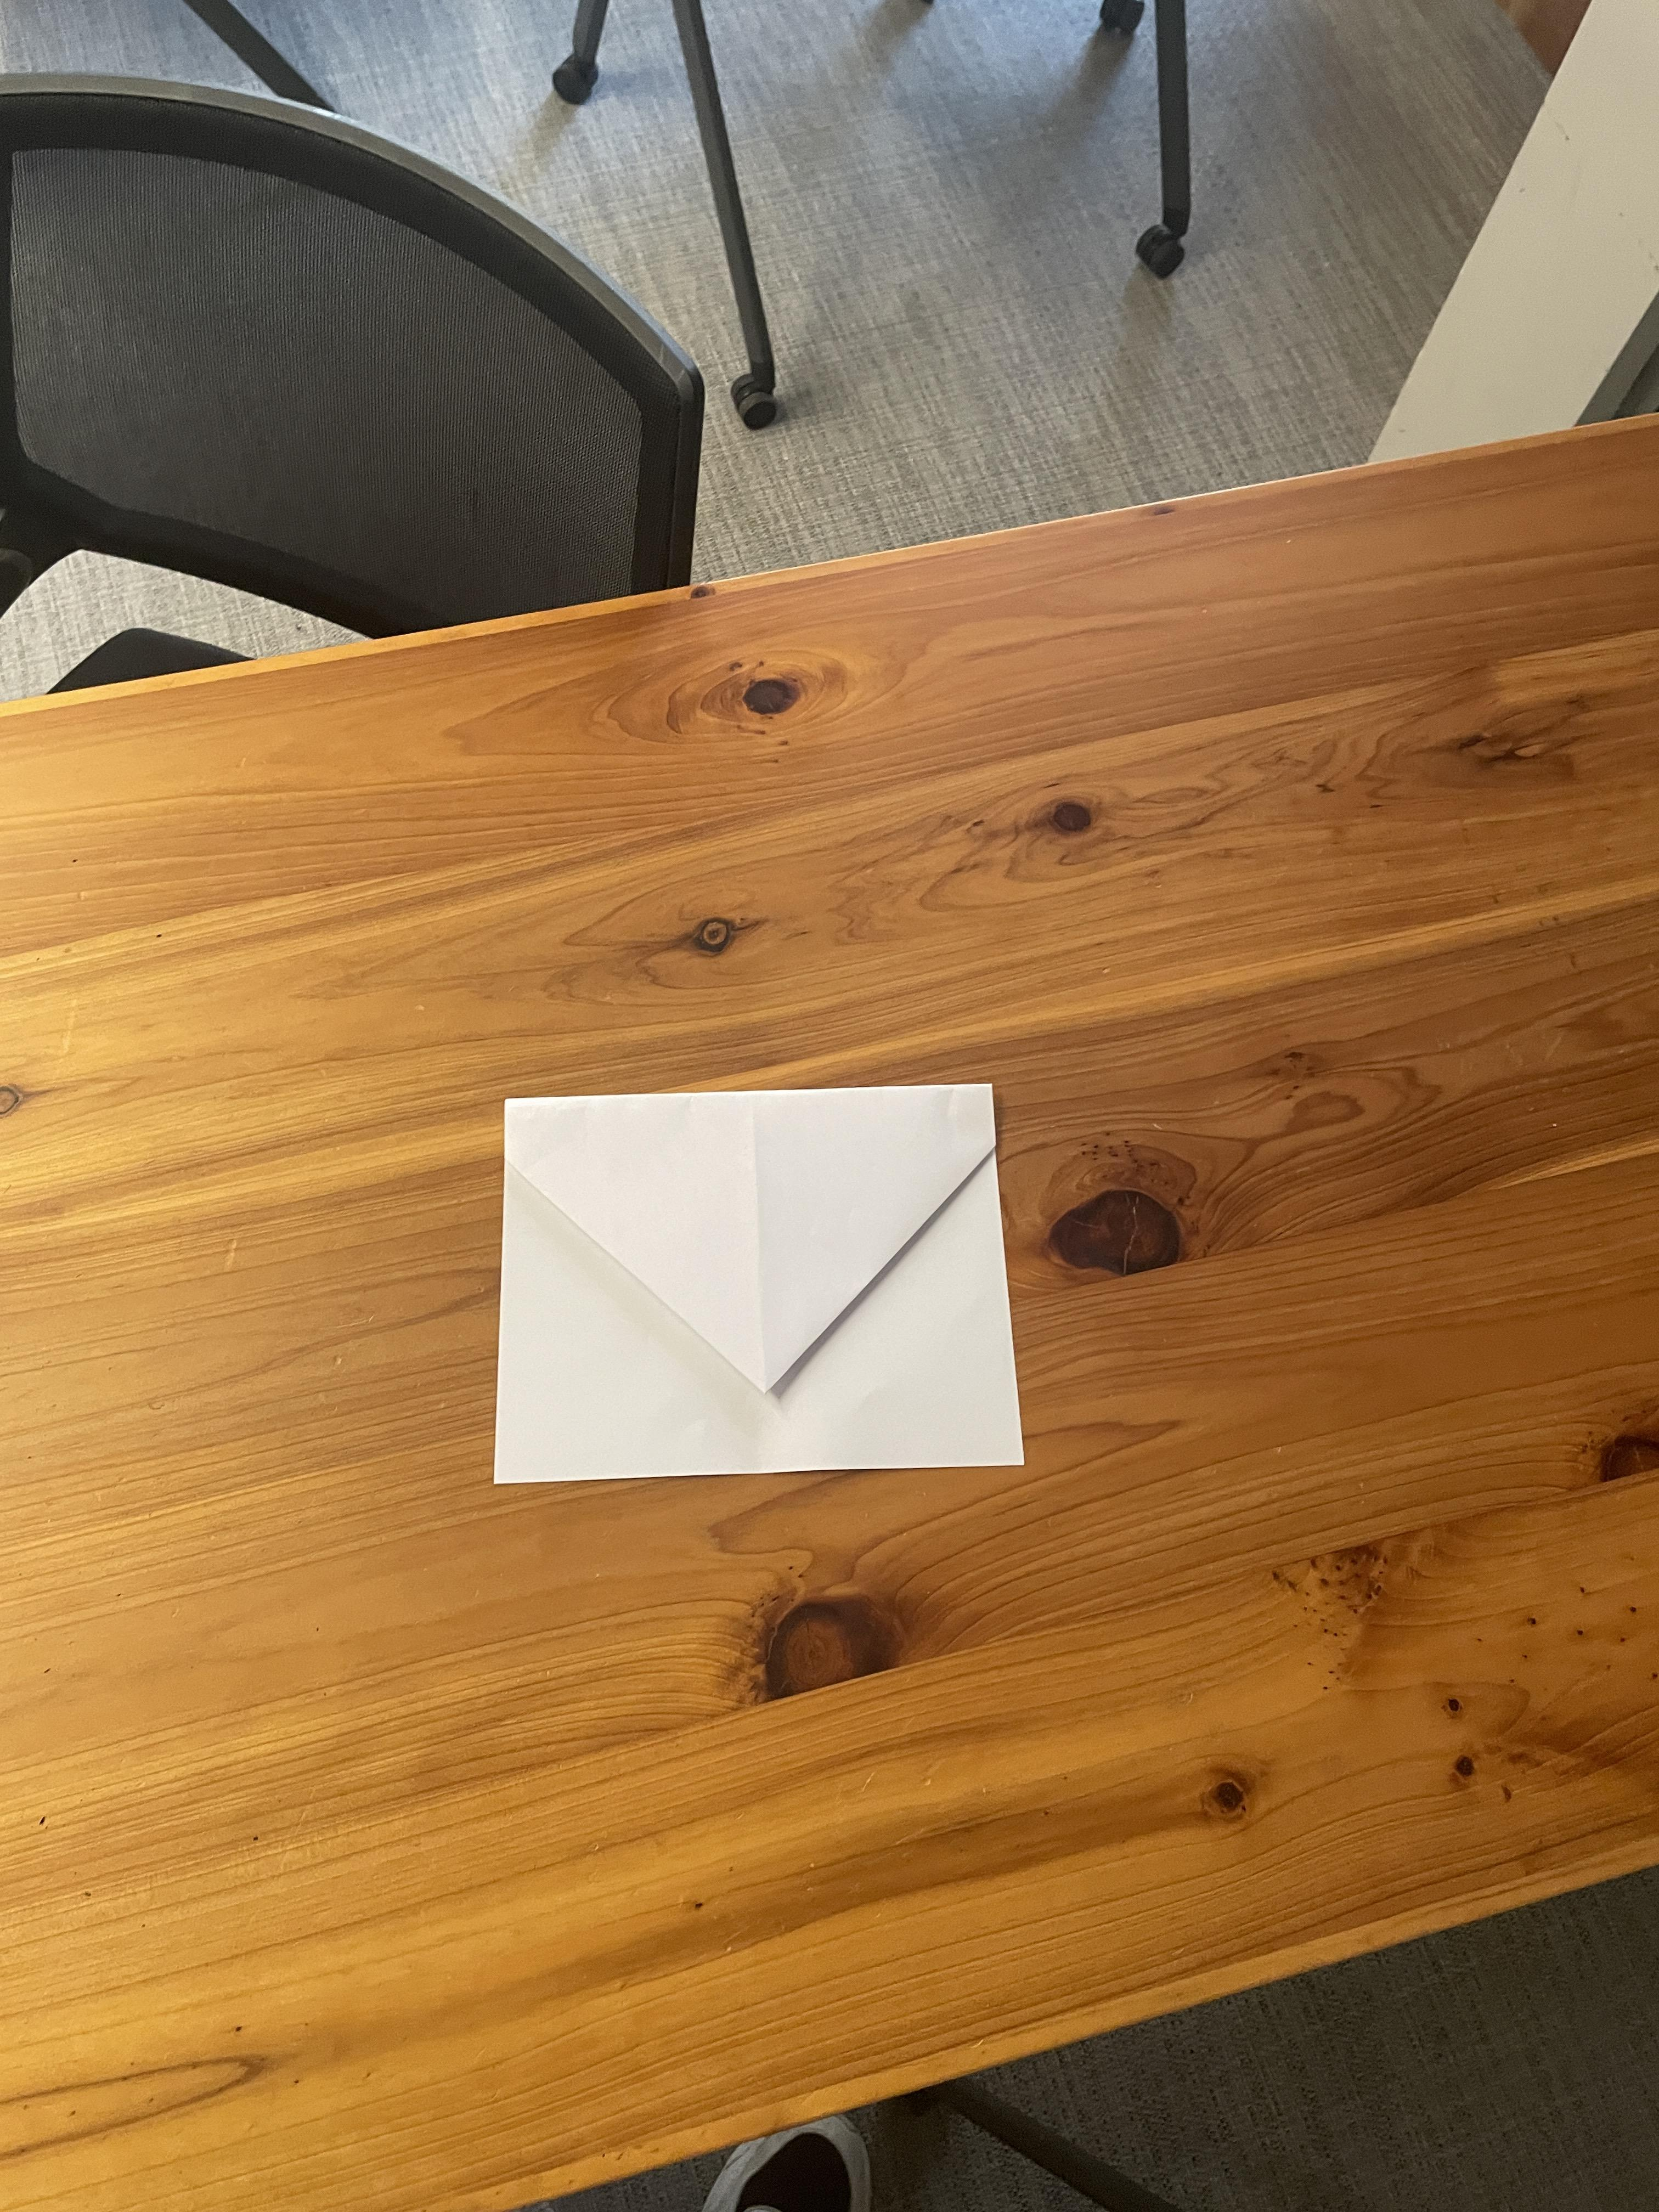shape_1: (350, 900, 1087, 1604)
